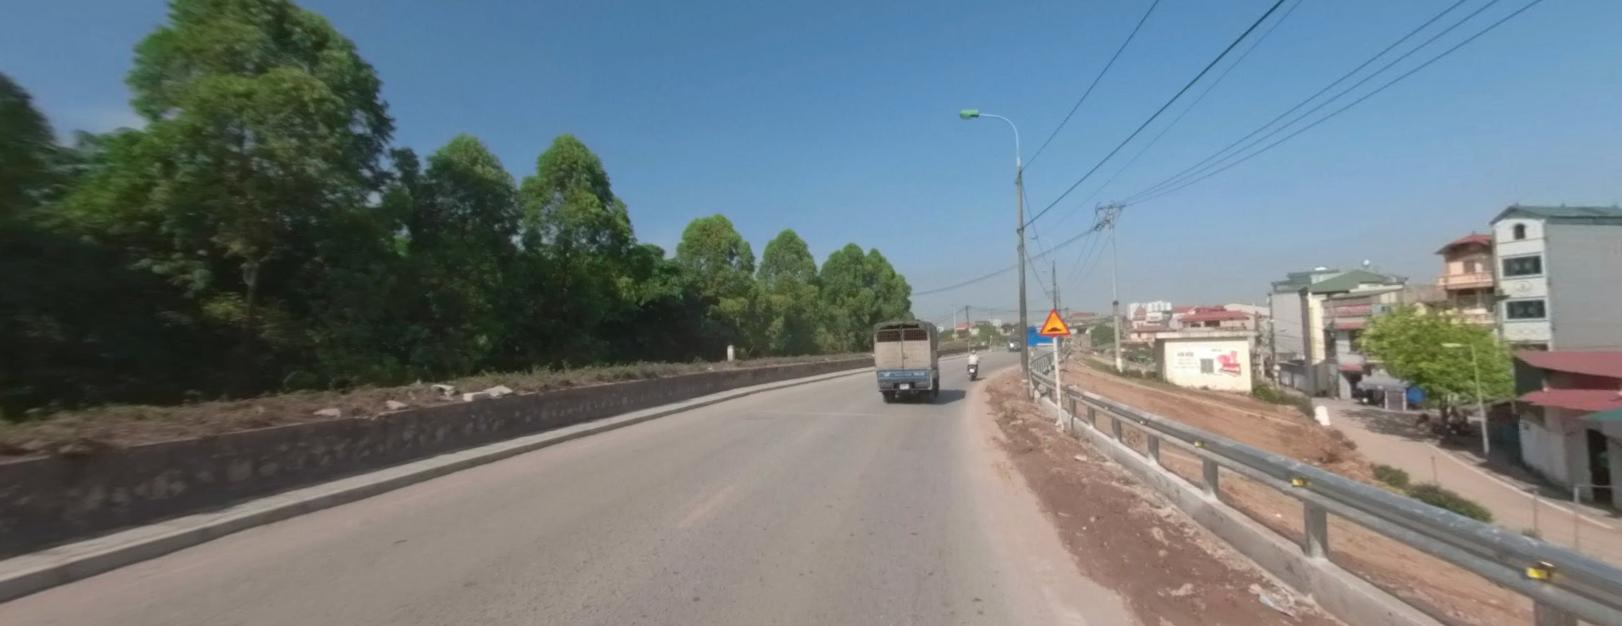Nguy hiem: (1038, 308, 1071, 335)
